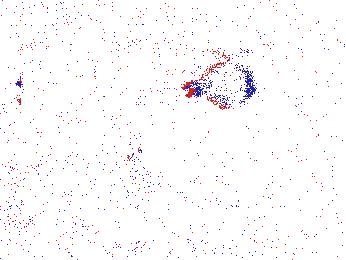flame jellyfish: (183, 59, 258, 108), (106, 147, 153, 209), (1, 171, 45, 227)
